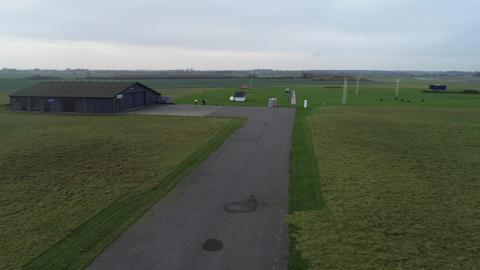RockwoolPallet: (272, 97, 278, 109)
